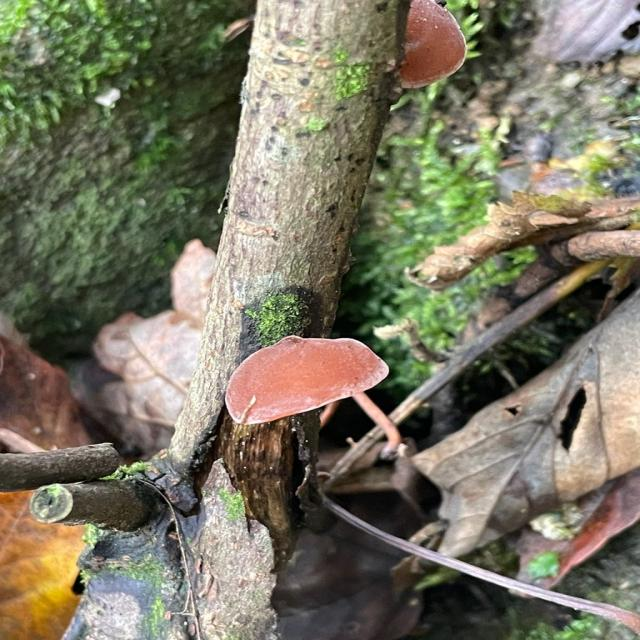Matang: (223, 335, 391, 424), (392, 0, 466, 90)
